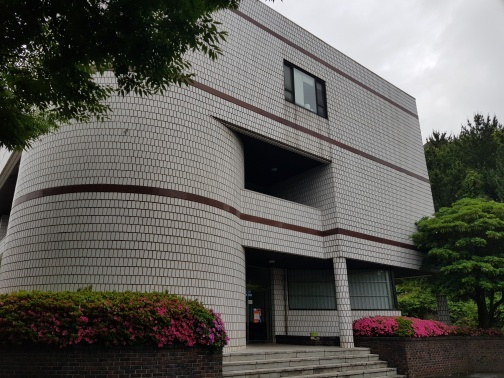Foreign Language Institute: (30, 46, 469, 349), (206, 225, 408, 367)
